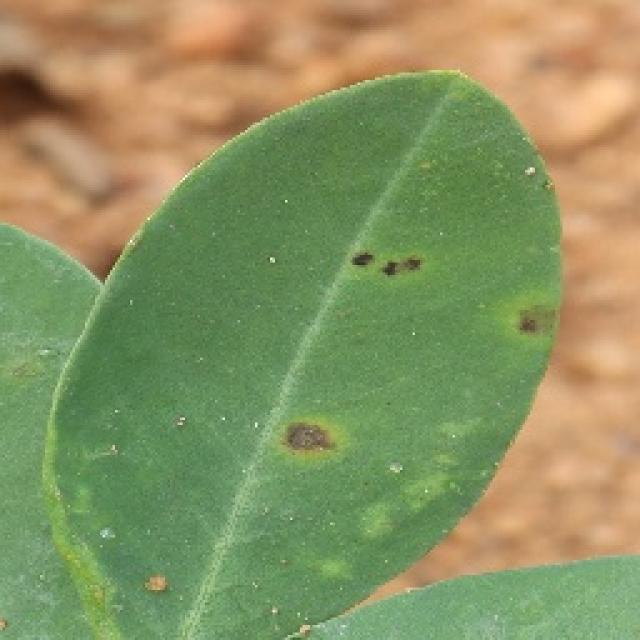Early_leaf_spot: (260, 403, 370, 503), (329, 222, 441, 304), (498, 275, 566, 338), (124, 574, 194, 625)
